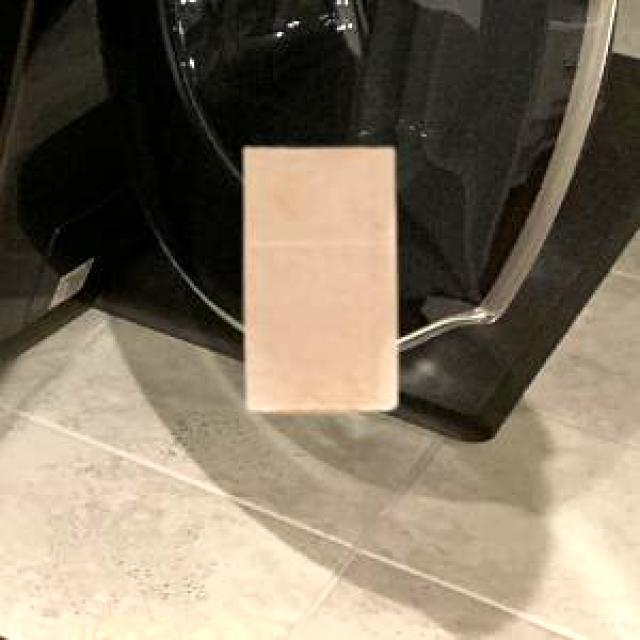Paper_Bag: (242, 144, 394, 409)
